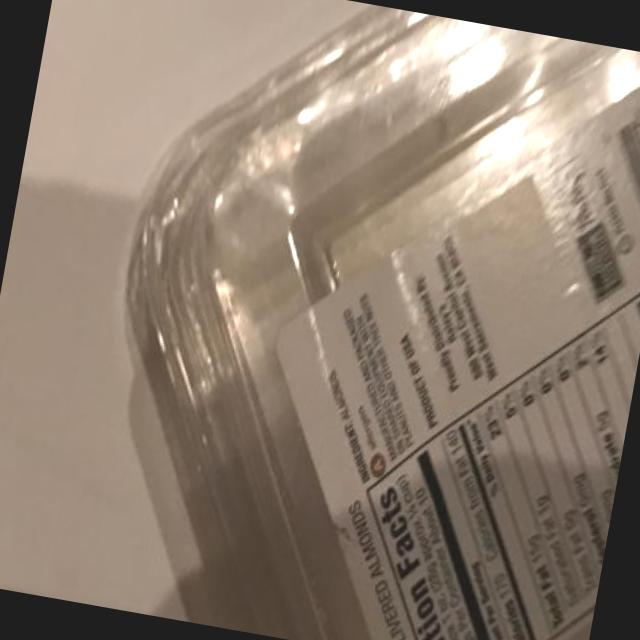bottle: (129, 7, 639, 639)
plastic: (128, 7, 639, 639)
